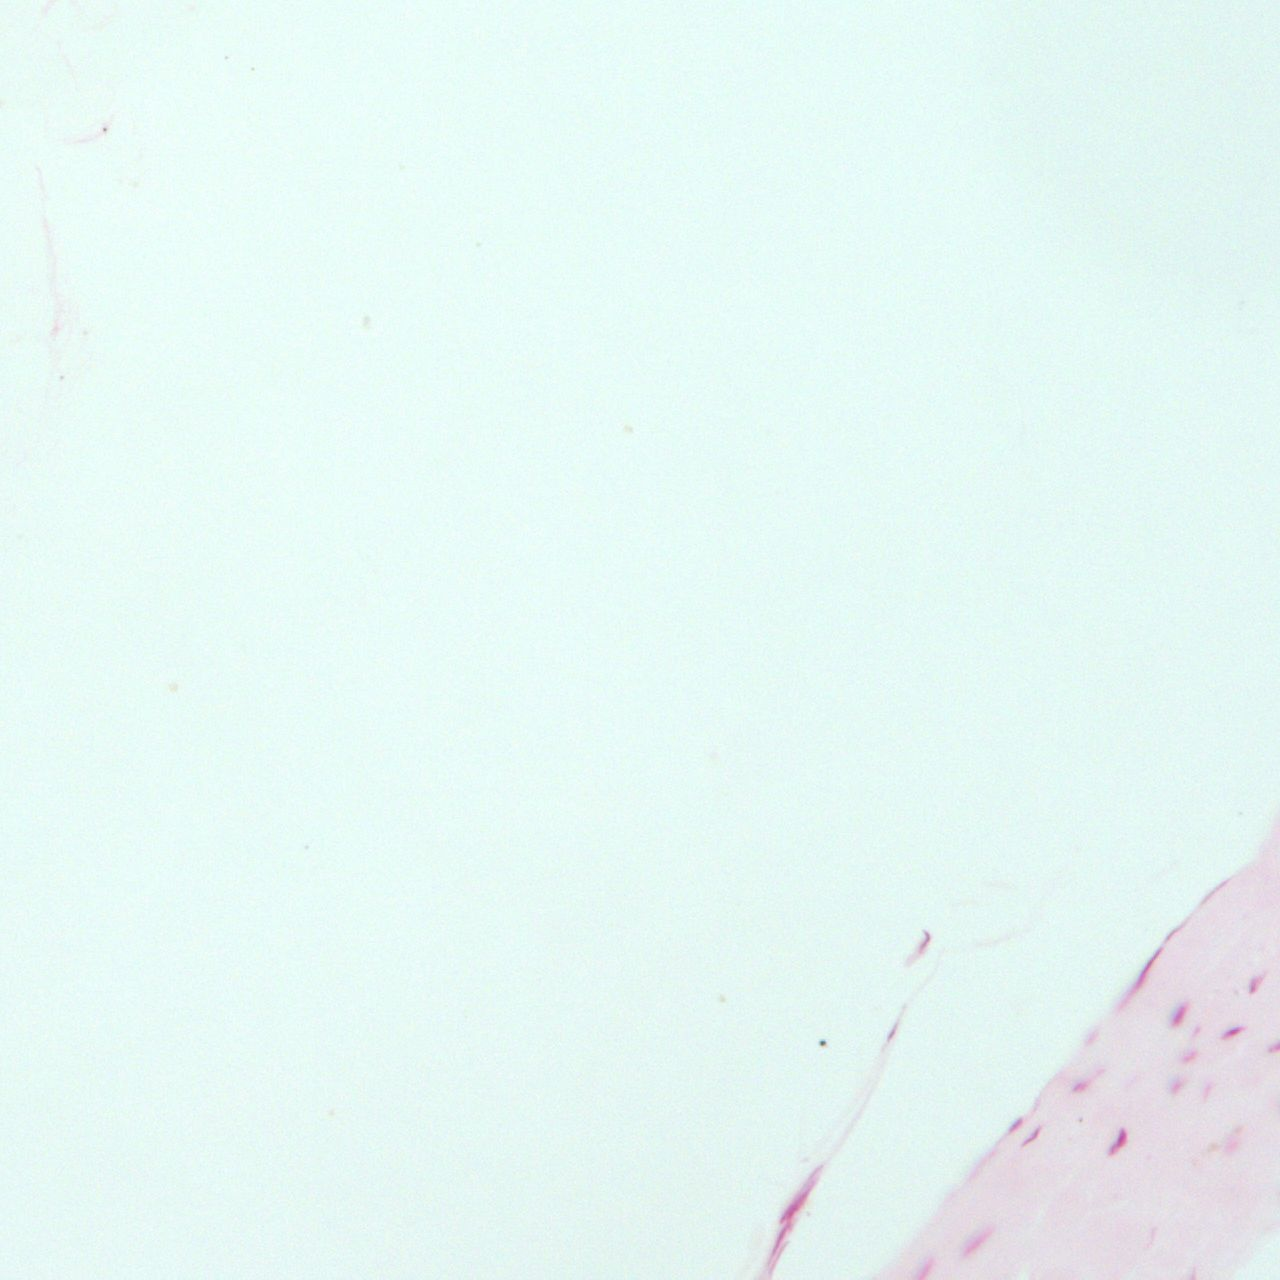dust: (716, 995, 728, 1005), (818, 1039, 828, 1049), (100, 125, 110, 135)
nucleus-AC: (777, 1160, 825, 1230), (1121, 942, 1165, 1005), (1196, 872, 1235, 907), (956, 1223, 994, 1258), (764, 1220, 789, 1265), (906, 930, 933, 964), (1107, 1126, 1132, 1159), (765, 1241, 785, 1279), (1019, 1124, 1044, 1151), (1167, 1001, 1191, 1029), (883, 1016, 903, 1048), (1164, 918, 1189, 940), (913, 1258, 937, 1280), (1220, 1024, 1246, 1042), (1006, 1117, 1026, 1136), (1167, 1080, 1185, 1092), (1248, 978, 1260, 994), (1228, 1137, 1239, 1155), (1203, 1082, 1212, 1099), (1073, 1082, 1087, 1092), (1182, 1051, 1194, 1061), (1192, 1024, 1201, 1037), (1273, 1042, 1280, 1051)
